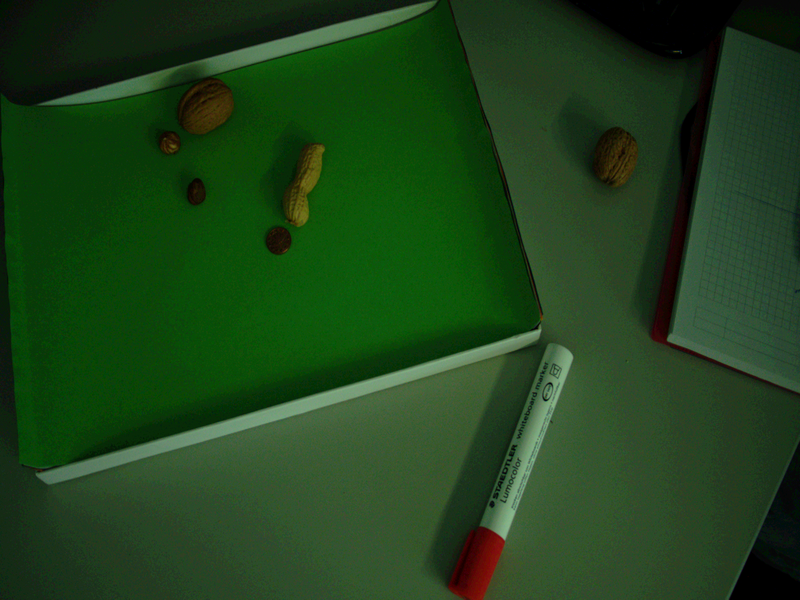walnut: (584, 117, 649, 194), (172, 74, 241, 140)
